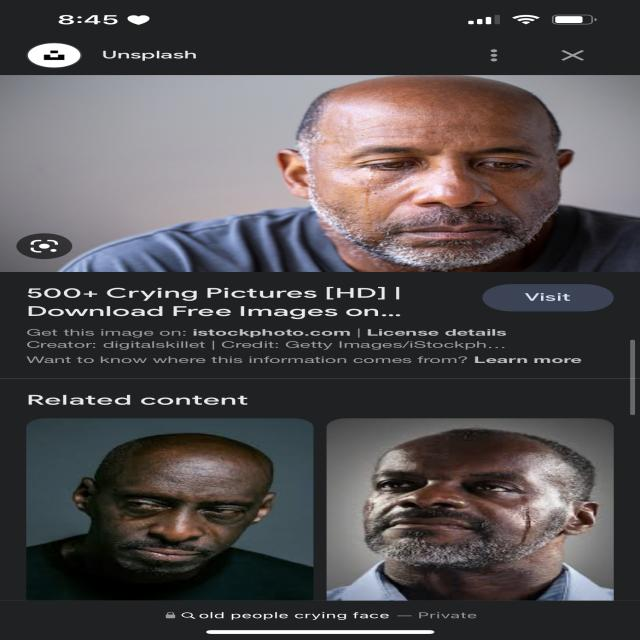sad: (314, 95, 567, 251)
